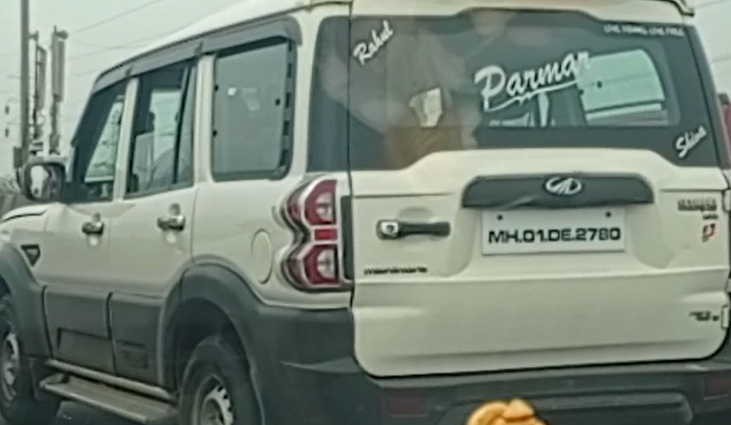MH01DE2780: (480, 206, 629, 253)
